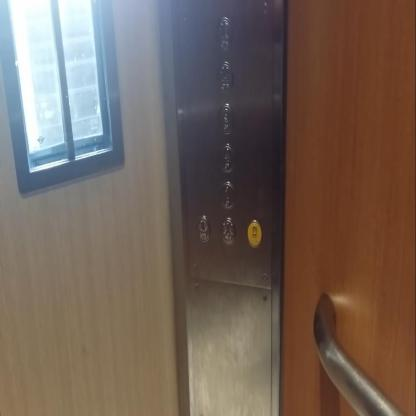1: (218, 180, 235, 209)
14: (216, 60, 234, 95)
4: (219, 142, 234, 174)
9: (217, 102, 234, 136)
alarm: (246, 218, 263, 249)
blur: (215, 15, 234, 53)
close: (219, 216, 236, 245)
open: (195, 214, 211, 242)
